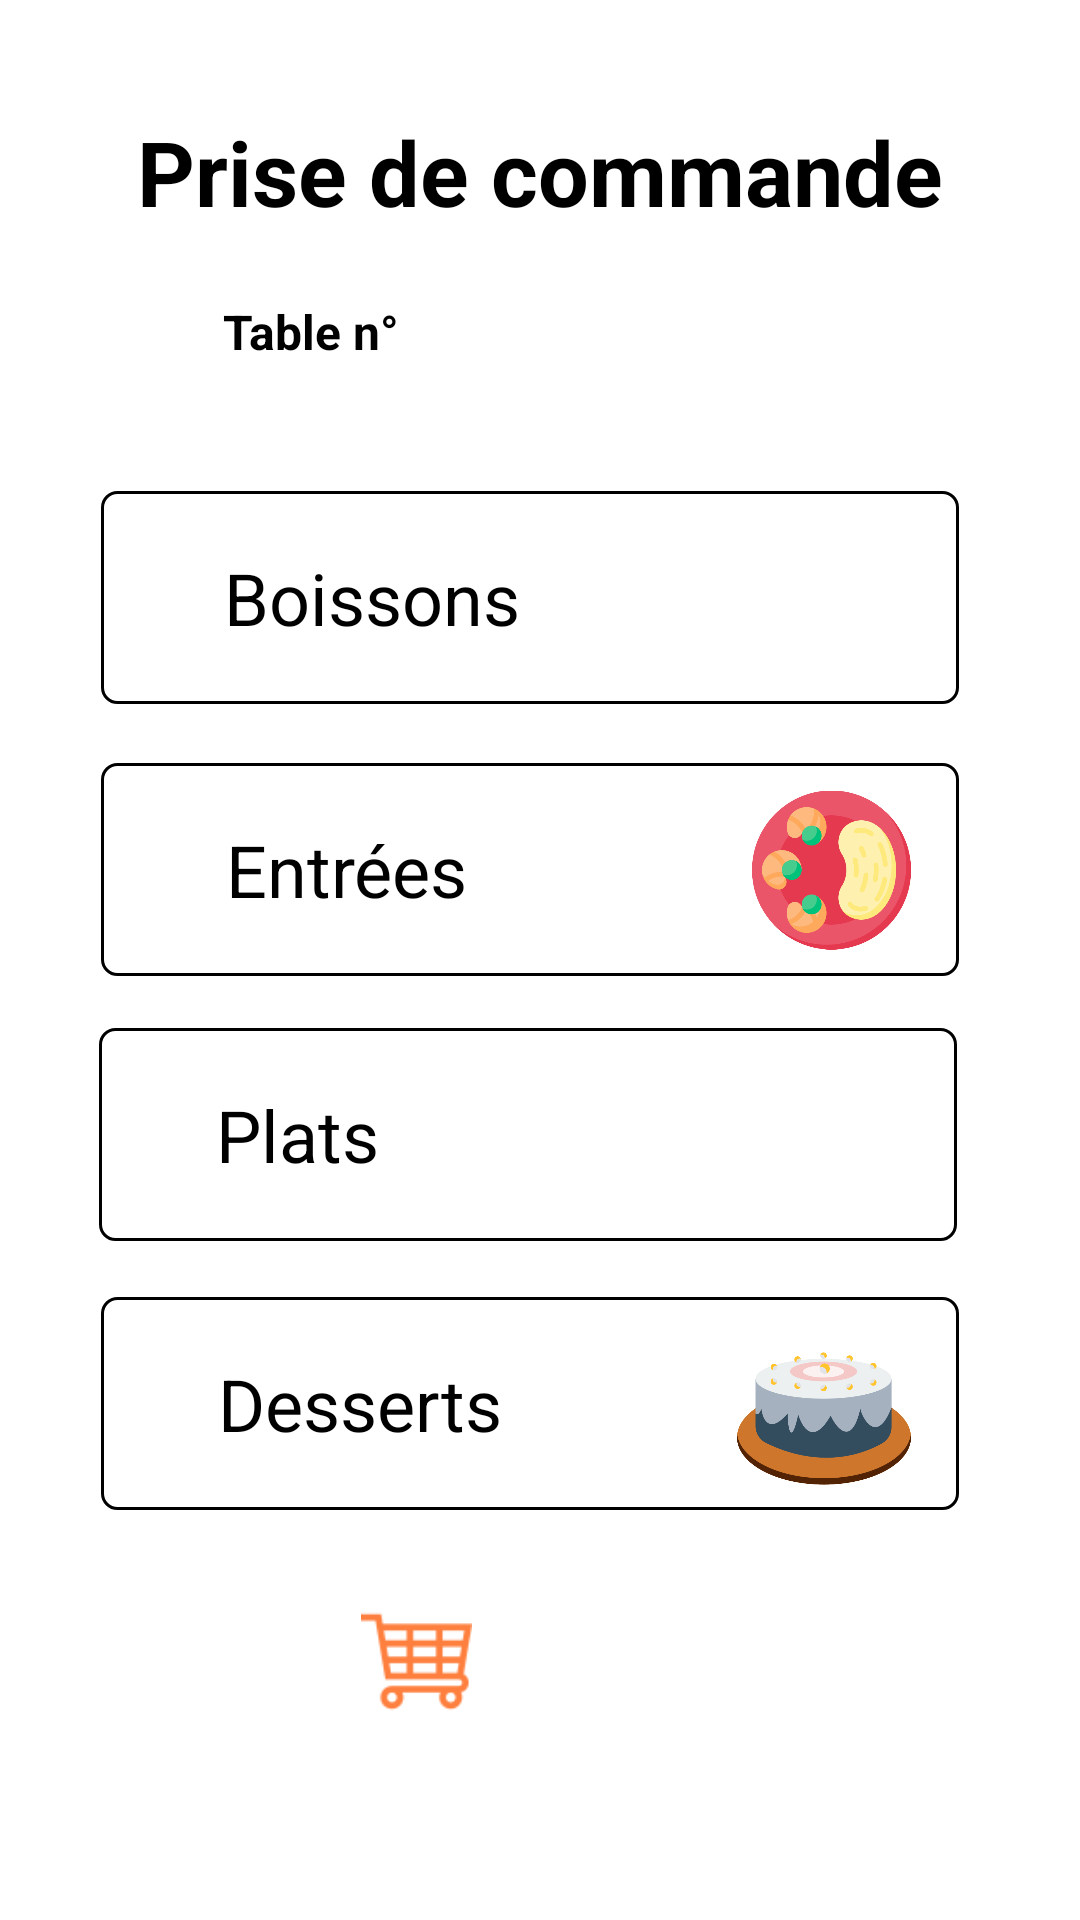

Screen size 1080x1920. Icon name, then its center in pixels as (x=x, y=y):
entree: (x=831, y=870)
panier: (x=416, y=1661)
